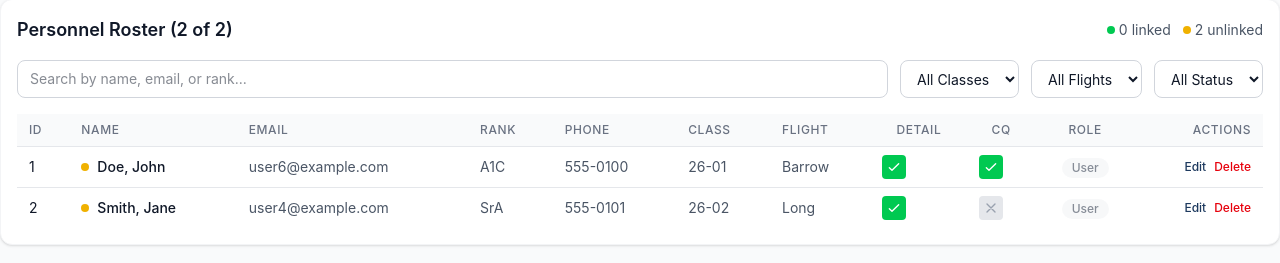
PersonnelRosterTable › should filter by search term
In the field with placeholder "Search by name, email, or rank...": (452, 79) [17, 60, 888, 98], type "john"
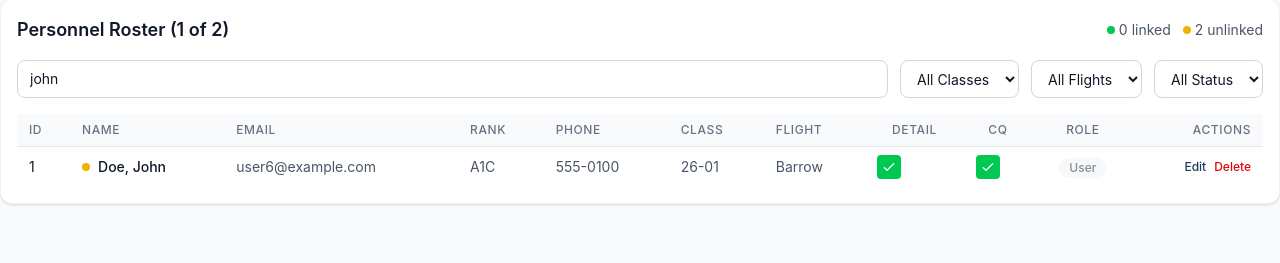
Expected: the text "Doe, John" is shown, [98, 157, 166, 177]
Expected: the heading "Personnel Roster (1 of 2)" is shown, [17, 16, 229, 44]
Expected: the text "Smith, Jane" is gone
